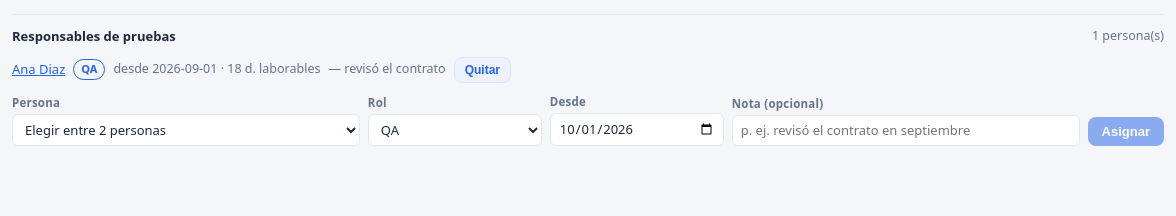
Test case: fallos, uno por código › un fallo al quitar también se explica
Click the button with aria-label "Quitar a Ana Diaz".
click(482, 70)  # box [454,56,511,82]
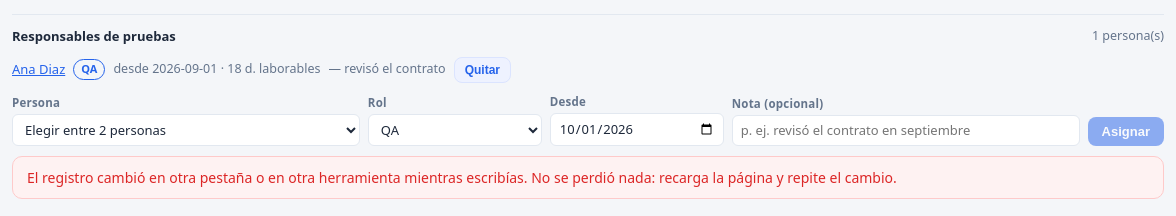
Expected: the message shows "no se perdió nada", [27,168,897,187]
